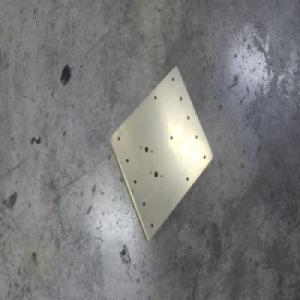MetalSheet: (107, 64, 214, 245)
